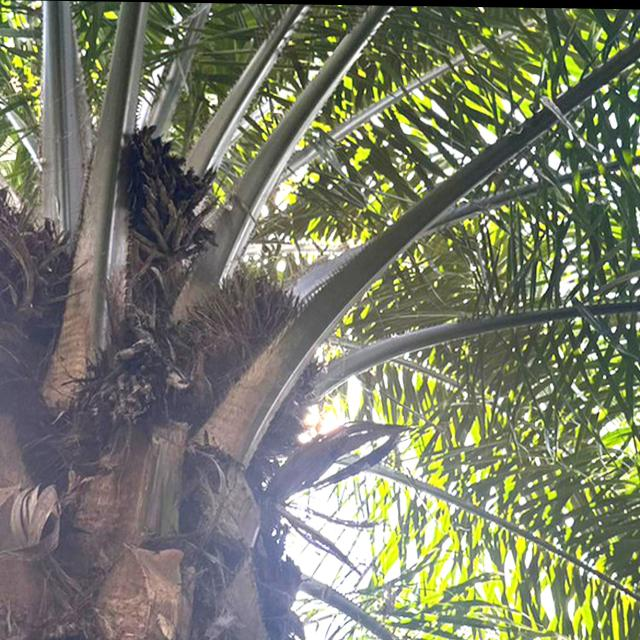unripe: (199, 264, 321, 459)
